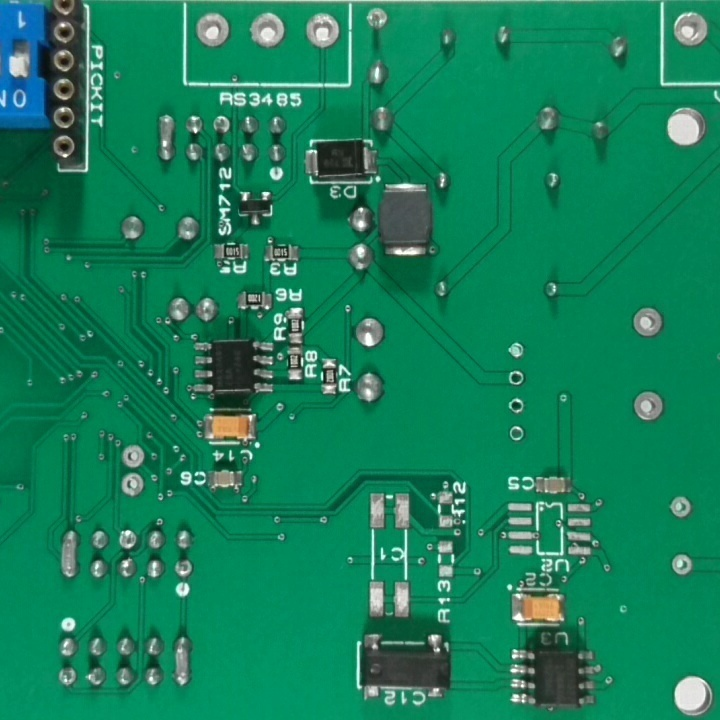F: (301, 8, 344, 53), (246, 10, 291, 52), (670, 9, 711, 53), (194, 9, 234, 54), (628, 384, 667, 428), (628, 300, 667, 340), (115, 470, 148, 500), (361, 5, 396, 32), (667, 491, 694, 523), (668, 552, 697, 580), (117, 444, 148, 470), (115, 527, 140, 555), (209, 112, 233, 140), (56, 663, 77, 689), (172, 556, 194, 580), (506, 338, 527, 361), (506, 423, 526, 446), (506, 368, 526, 389), (508, 397, 525, 417)
P: (170, 633, 196, 692), (153, 111, 179, 168), (56, 526, 81, 583)
